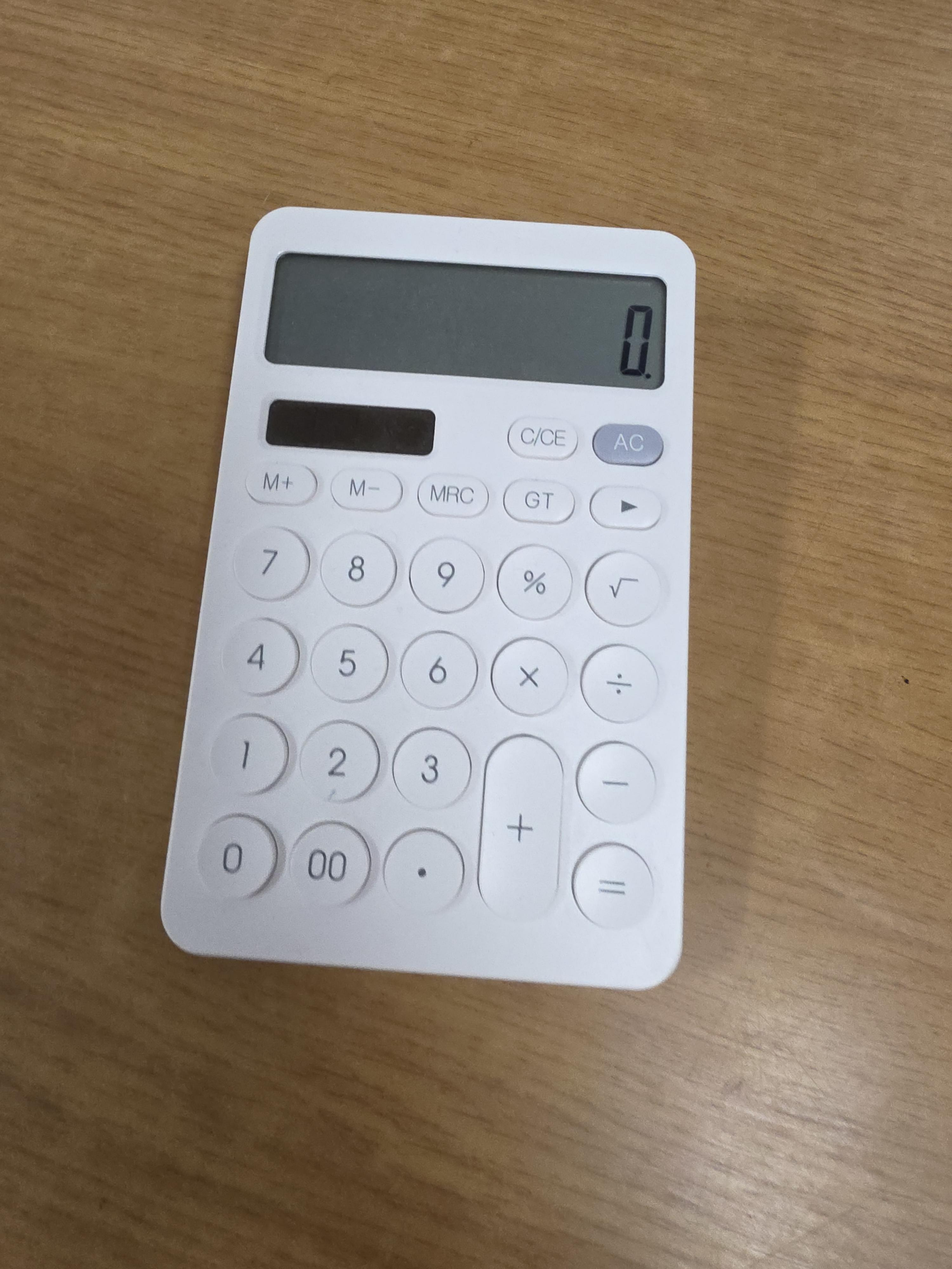calculator: (160, 205, 697, 992)
